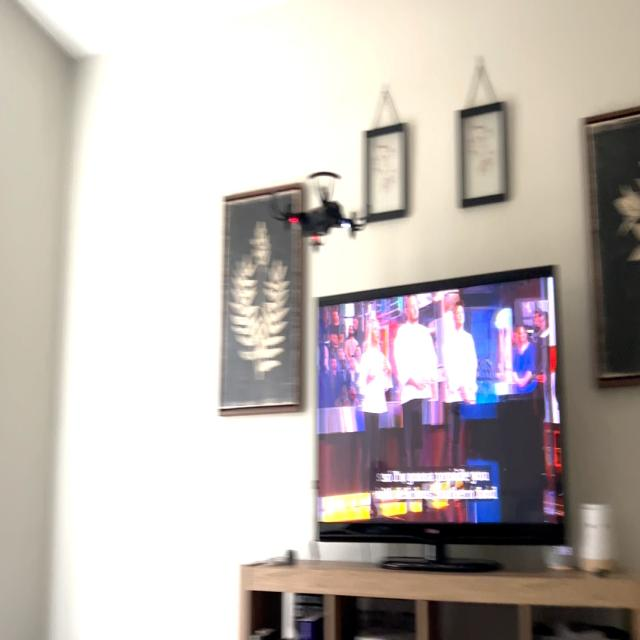drone: (258, 150, 374, 261)
